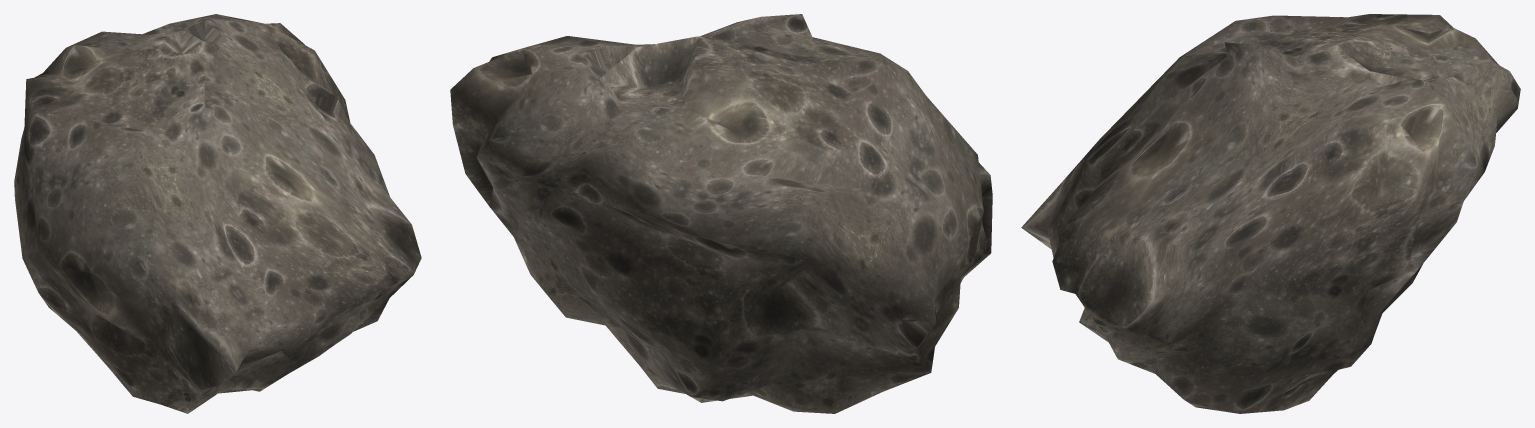
Rendered from Asteroid_03_L2.FBX.
3 renders of one model, left to right at view 1: azimuth 30°, elevation 25°; view 2: azimuth 150°, elevation 25°; view 3: azimuth 270°, elevation 25°, orthographic. The views are drawn at different scales.
Visible parts, largest first — view 1: Asteroid; view 2: Asteroid; view 3: Asteroid.
Boxes of the visible parts, x1,y1,x2,y2 form: Asteroid: [14, 14, 421, 413]; Asteroid: [450, 14, 992, 413]; Asteroid: [1021, 14, 1520, 413].
Size of the model in its own units: 2.68 by 2.33 by 3.02.
